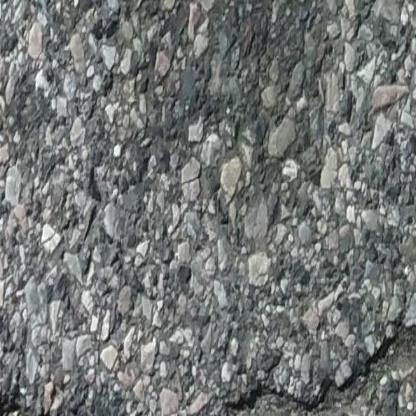Cracks: (206, 323, 416, 416), (0, 390, 125, 416)
